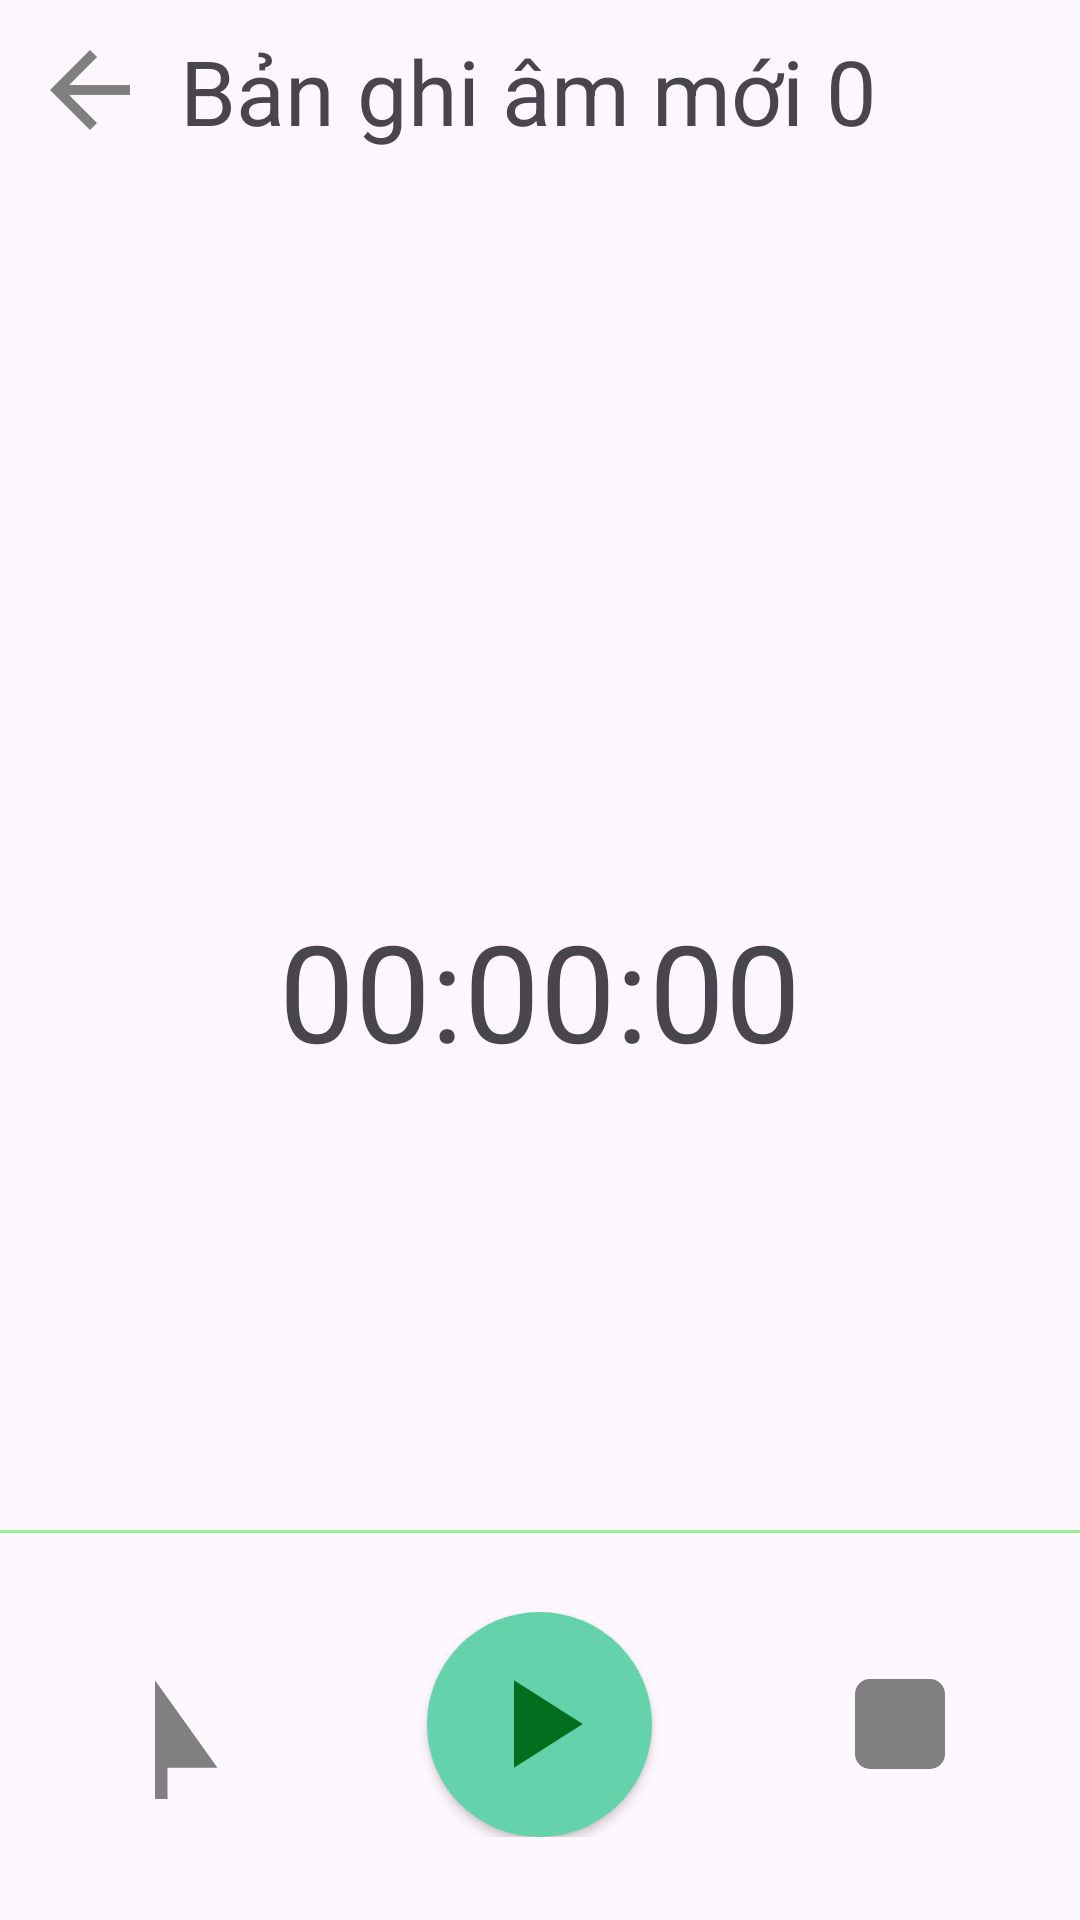

Locate icon controls on the screen. Image size 1080 × 1920, boxes as (x1, y1, x2, y2).
back: (50, 50, 130, 130)
flag: (155, 1680, 217, 1799)
